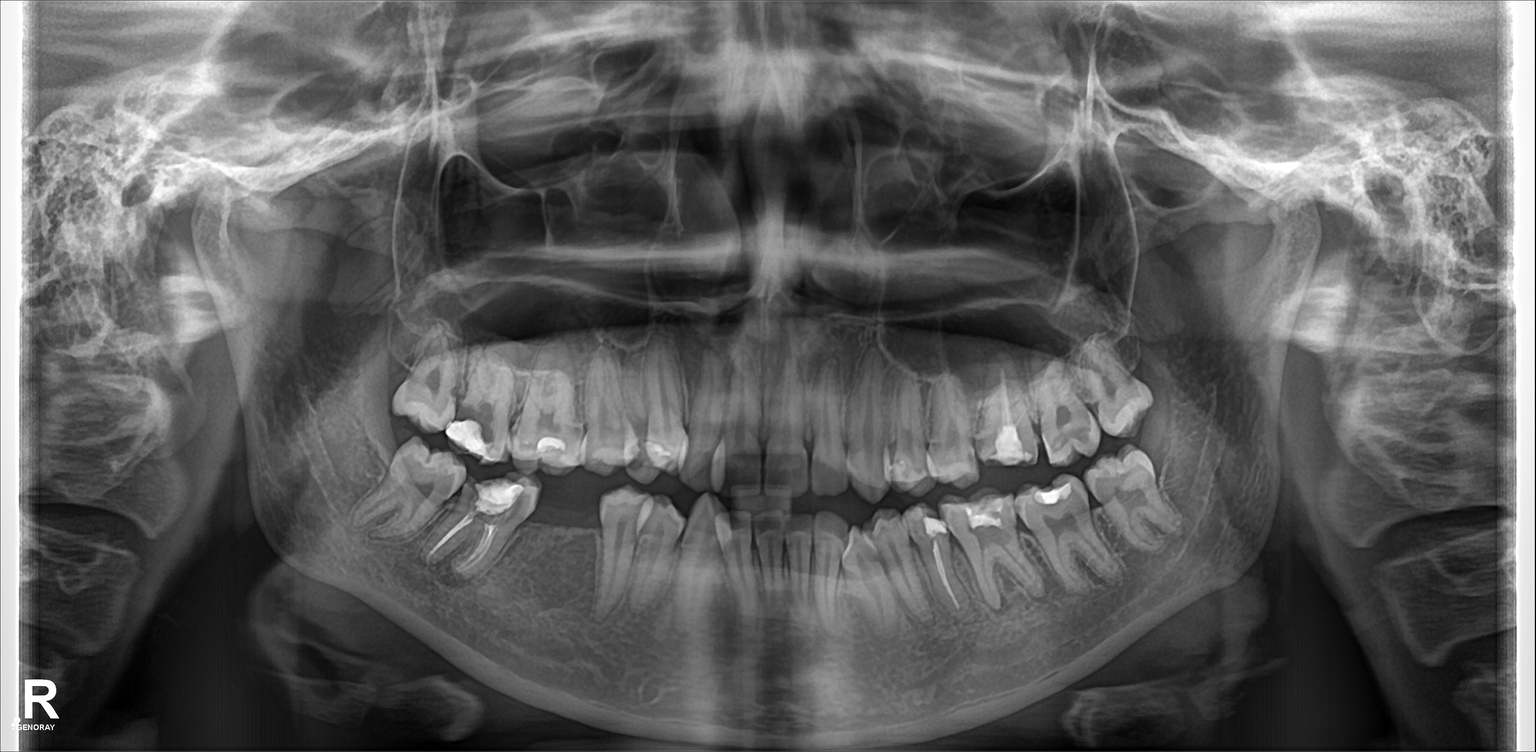Dental Caries: (460, 391, 499, 459)
Endodontically Treated Tooth: (454, 478, 517, 566), (991, 374, 1037, 474), (920, 514, 959, 623)
Missing Tooth: (548, 493, 596, 599)
